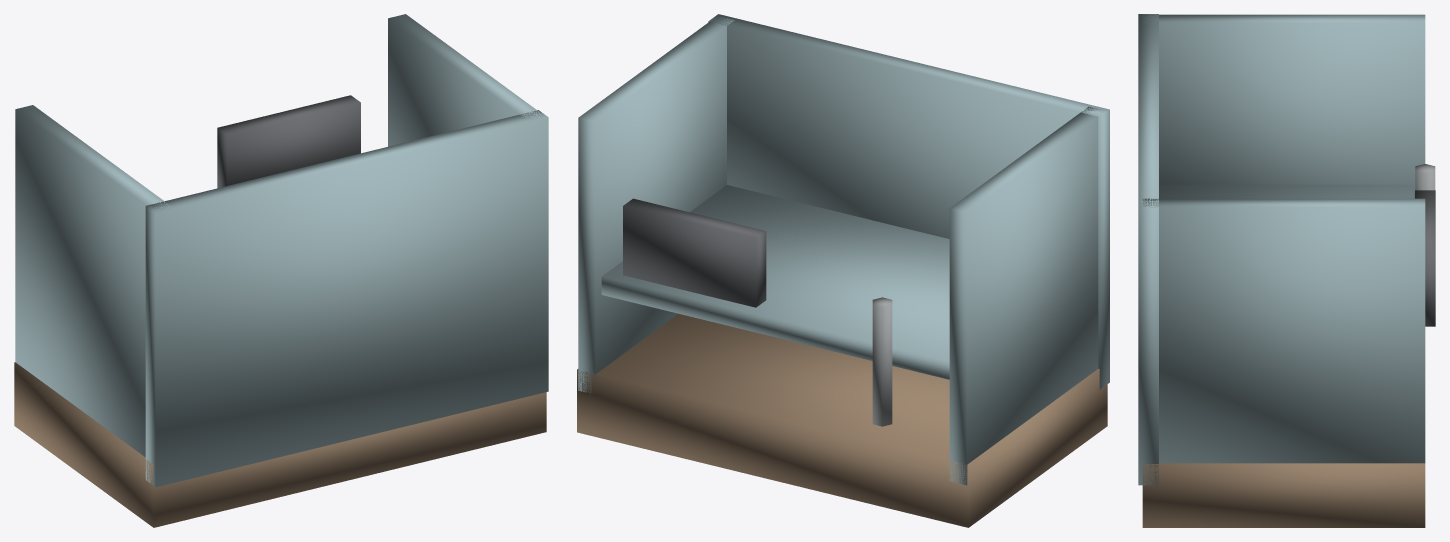
File: pie_display__service.glb
3 views of the same model, side by side, from view 1: azimuth 30°, elevation 25°; view 2: azimuth 150°, elevation 25°; view 3: azimuth 270°, elevation 25° (orthographic).
Visible parts, largest first — view 1: world; view 2: world; view 3: world.
Part boxes in pixels (x1,y1,x2,y2): world: (14, 14, 548, 527); world: (577, 14, 1109, 527); world: (1138, 14, 1435, 527).
Size of the model in its own units: 0.78 by 0.6 by 0.505.
